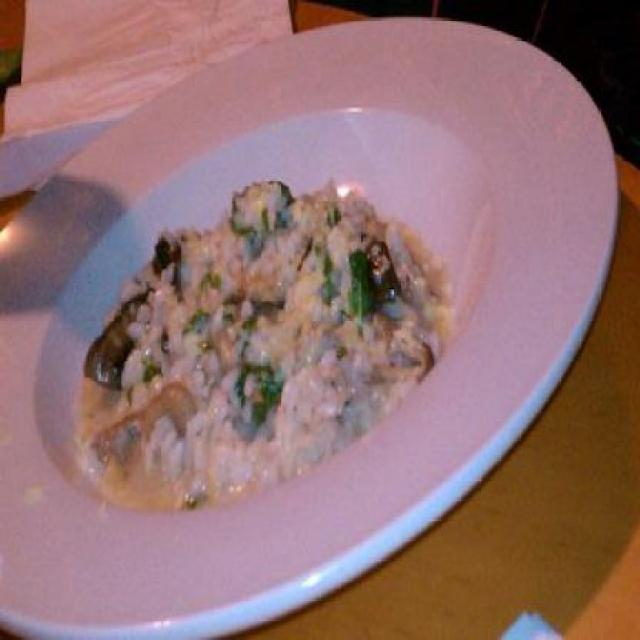Risotto: (61, 150, 466, 504)
